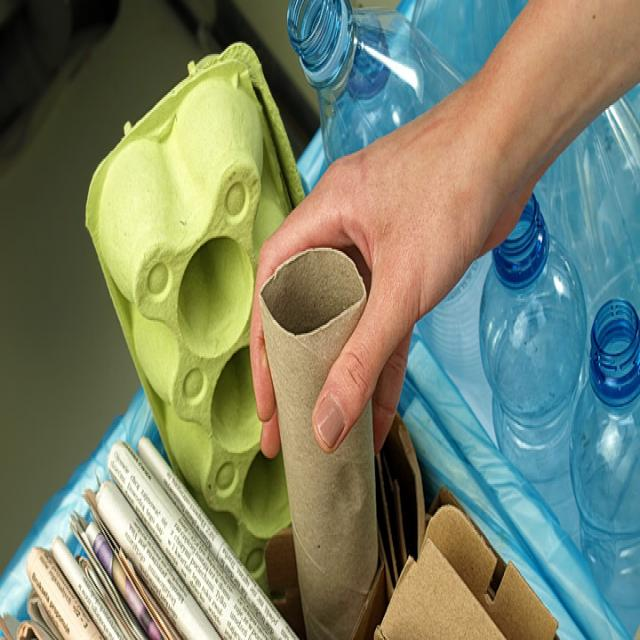Botella Plastica: (479, 194, 589, 555), (288, 0, 470, 168), (568, 297, 640, 640)
Carton: (84, 40, 305, 598)
Papel: (0, 432, 304, 640)
